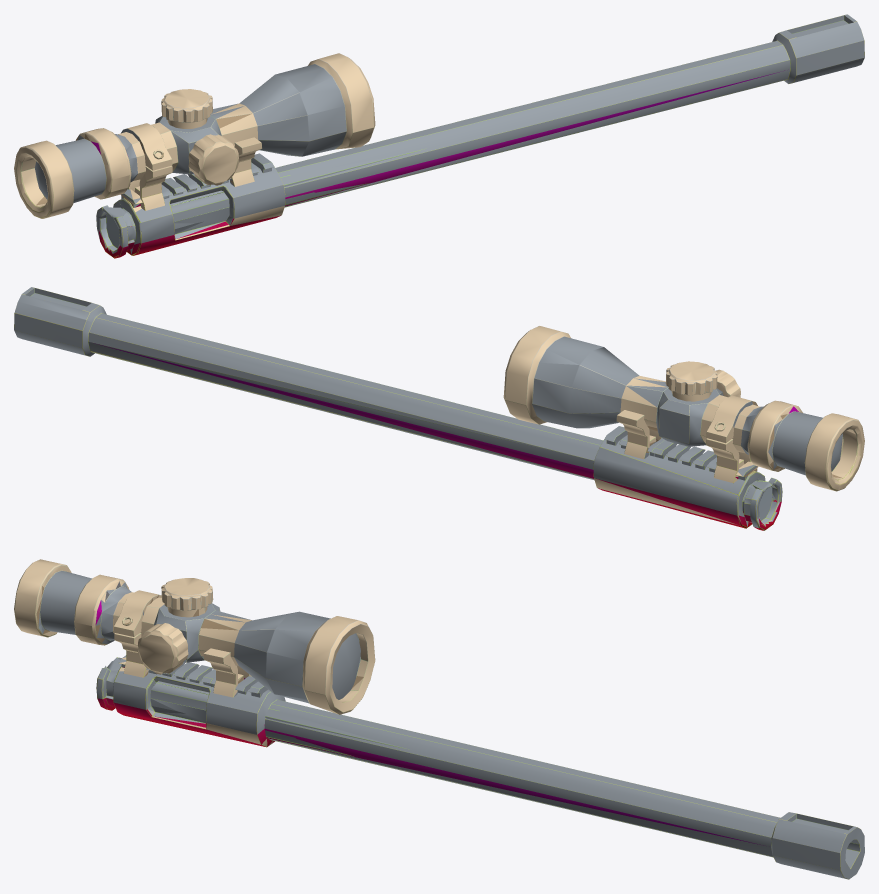
The model's file is wpn_faucheur.glb.
3 renders of one model, top to bottom at view 1: azimuth 30°, elevation 25°; view 2: azimuth 150°, elevation 25°; view 3: azimuth 330°, elevation 25°, orthographic.
Visible parts, largest first — view 1: wpn_faucheur, culasse, bipied; view 2: wpn_faucheur, culasse, bipied; view 3: wpn_faucheur, culasse, bipied.
Part boxes in pixels (<box>): wpn_faucheur: <box>96,14,864,258</box>; culasse: <box>14,89,239,222</box>; bipied: <box>174,60,790,233</box>; wpn_faucheur: <box>14,287,782,530</box>; culasse: <box>600,361,864,495</box>; bipied: <box>88,332,594,480</box>; wpn_faucheur: <box>96,610,864,879</box>; culasse: <box>14,559,220,692</box>; bipied: <box>150,690,771,849</box>.
Size of the model in its own units: 1 by 0.1649 by 0.119.
